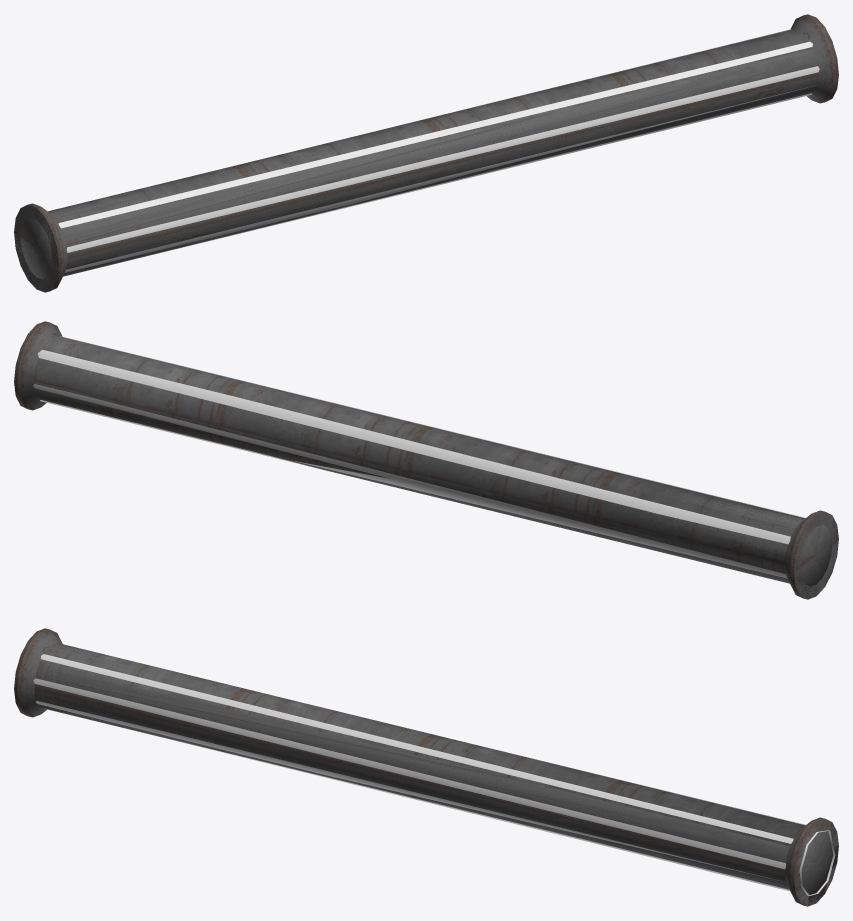
Rendered from s_gm_pipe_metal_d60.dae.
The picture shows the model from 3 angles, top to bottom: view 1: azimuth 30°, elevation 25°; view 2: azimuth 150°, elevation 25°; view 3: azimuth 330°, elevation 25°; orthographic projection.
Parts seen in each view (by area): view 1: metal_pipe_d60_a100, Colmesh_metal_pipe_d60-1, metal_pipe_d60_a60, metal_pipe_d60_a200; view 2: Colmesh_metal_pipe_d60-1, metal_pipe_d60_a60, metal_pipe_d60_a100, metal_pipe_d60_a200; view 3: metal_pipe_d60_a100, Colmesh_metal_pipe_d60-1, metal_pipe_d60_a60, metal_pipe_d60_a200.
Part boxes in pixels (x1=…): metal_pipe_d60_a100: x1=14, y1=14, x2=838, y2=292; Colmesh_metal_pipe_d60-1: x1=14, y1=15, x2=838, y2=291; metal_pipe_d60_a60: x1=58, y1=29, x2=819, y2=272; metal_pipe_d60_a200: x1=37, y1=14, x2=837, y2=292; Colmesh_metal_pipe_d60-1: x1=14, y1=322, x2=838, y2=599; metal_pipe_d60_a60: x1=33, y1=336, x2=805, y2=578; metal_pipe_d60_a100: x1=14, y1=321, x2=838, y2=599; metal_pipe_d60_a200: x1=15, y1=322, x2=819, y2=598; metal_pipe_d60_a100: x1=14, y1=628, x2=838, y2=906; Colmesh_metal_pipe_d60-1: x1=14, y1=628, x2=838, y2=906; metal_pipe_d60_a60: x1=33, y1=654, x2=835, y2=895; metal_pipe_d60_a200: x1=15, y1=631, x2=831, y2=904.
Size of the model in its own units: 8.02 by 0.8 by 0.8.
